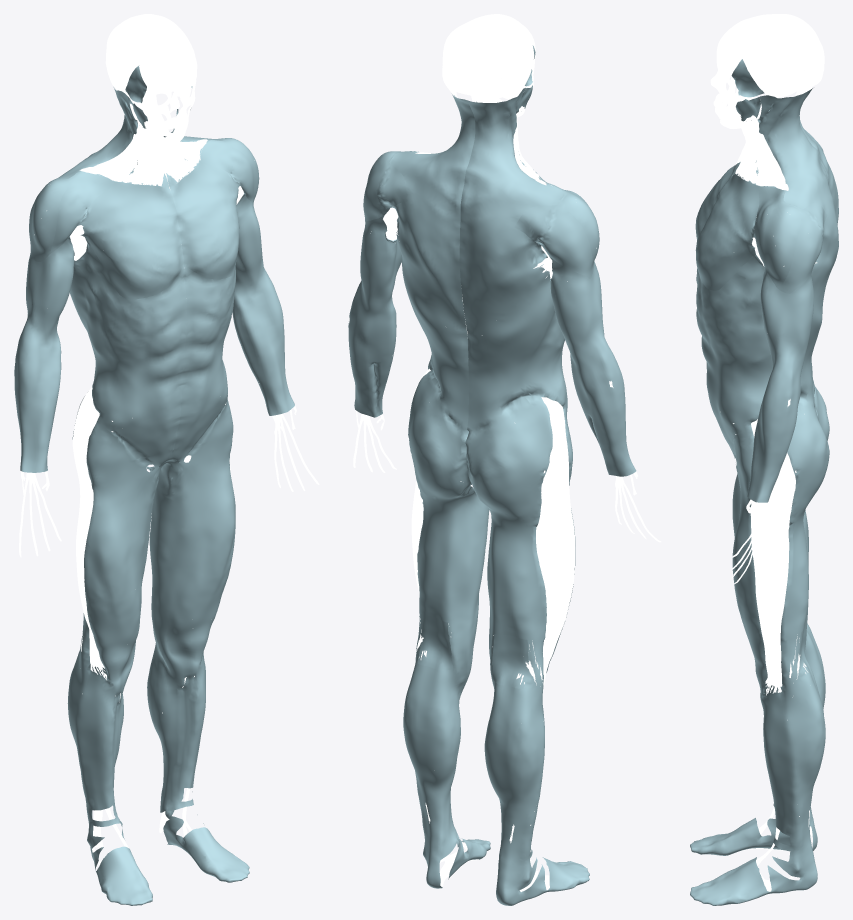
The model's file is superficial-muscles.glb.
The picture shows the model from 3 angles, left to right: view 1: azimuth 30°, elevation 25°; view 2: azimuth 150°, elevation 25°; view 3: azimuth 270°, elevation 25°; orthographic projection. The views are drawn at different scales.
Visible parts, largest first — view 1: Investing abdominal fascia.r, Fascia lata.l, Fascia lata.r, Crural fascia.l, Crural fascia.r, Pectoral fascia.r, Investing abdominal fascia.l, Pectoral fascia.l, Antebrachial fascia.r, Antebrachial fascia.l, Deltoid fascia.r, Brachial fascia.r (+13 smaller); view 2: Investing abdominal fascia.r, Fascia lata.r, Fascia lata.l, Crural fascia.r, Investing abdominal fascia.l, Crural fascia.l, Superficial investing cervical fascia.r, Iliotibial tract.r, Antebrachial fascia.r, Antebrachial fascia.l, Deltoid fascia.r, Superficial investing cervical fascia.l (+11 smaller); view 3: Investing abdominal fascia.l, Crural fascia.l, Fascia lata.l, Iliotibial tract.l, Deltoid fascia.l, Pectoral fascia.l, Superficial investing cervical fascia.l, Antebrachial fascia.l, Brachial fascia.l, Epicranial aponeurosis.l, Crural fascia.r, Temporoparietalis muscle.l (+11 smaller).
Boxes of the visible parts, left/top/right/bottom form: Investing abdominal fascia.r: left=70, top=243, right=186, bottom=465; Fascia lata.l: left=146, top=398, right=235, bottom=649; Fascia lata.r: left=72, top=396, right=167, bottom=670; Crural fascia.l: left=147, top=633, right=249, bottom=882; Crural fascia.r: left=67, top=649, right=152, bottom=905; Pectoral fascia.r: left=78, top=181, right=184, bottom=299; Investing abdominal fascia.l: left=169, top=267, right=235, bottom=460; Pectoral fascia.l: left=169, top=161, right=240, bottom=279; Antebrachial fascia.r: left=14, top=321, right=61, bottom=472; Antebrachial fascia.l: left=232, top=268, right=294, bottom=415; Deltoid fascia.r: left=29, top=172, right=113, bottom=261; Brachial fascia.r: left=26, top=236, right=74, bottom=335; Investing abdominal fascia.r: left=459, top=210, right=567, bottom=433; Fascia lata.r: left=465, top=396, right=575, bottom=689; Fascia lata.l: left=408, top=370, right=489, bottom=668; Crural fascia.r: left=484, top=678, right=589, bottom=905; Investing abdominal fascia.l: left=391, top=180, right=468, bottom=432; Crural fascia.l: left=403, top=660, right=490, bottom=888; Superficial investing cervical fascia.r: left=460, top=88, right=564, bottom=220; Iliotibial tract.r: left=536, top=397, right=574, bottom=689; Antebrachial fascia.r: left=569, top=335, right=636, bottom=476; Antebrachial fascia.l: left=348, top=281, right=396, bottom=417; Deltoid fascia.r: left=514, top=176, right=599, bottom=278; Superficial investing cervical fascia.l: left=389, top=94, right=475, bottom=211; Investing abdominal fascia.l: left=696, top=197, right=838, bottom=456; Crural fascia.l: left=690, top=668, right=825, bottom=905; Fascia lata.l: left=732, top=395, right=829, bottom=686; Iliotibial tract.l: left=750, top=419, right=795, bottom=695; Deltoid fascia.l: left=754, top=186, right=827, bottom=293; Pectoral fascia.l: left=695, top=174, right=759, bottom=290; Superficial investing cervical fascia.l: left=734, top=88, right=832, bottom=209; Antebrachial fascia.l: left=747, top=354, right=803, bottom=502; Brachial fascia.l: left=760, top=265, right=813, bottom=363; Epicranial aponeurosis.l: left=720, top=18, right=824, bottom=79; Crural fascia.r: left=690, top=629, right=825, bottom=855; Temporoparietalis muscle.l: left=741, top=47, right=804, bottom=97.
Size of the model in its own units: 0.6301 by 1.7 by 0.2685.
